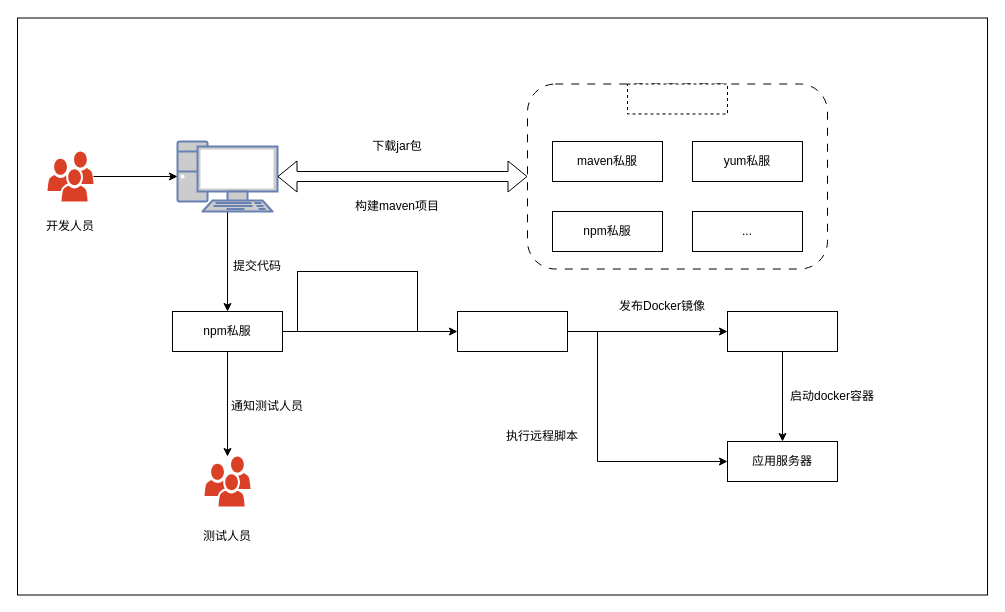
Some shapes in this 1005 by 612 pixel diagram are drawn without their labels. Here are the shapes that lost their labels. From the top down, the box of each, then its label:
(626, 83, 728, 114): Nexus服务器
(456, 310, 568, 352): 编译、测试、构建DOCKer镜像
(726, 310, 838, 352): Docker Registry
